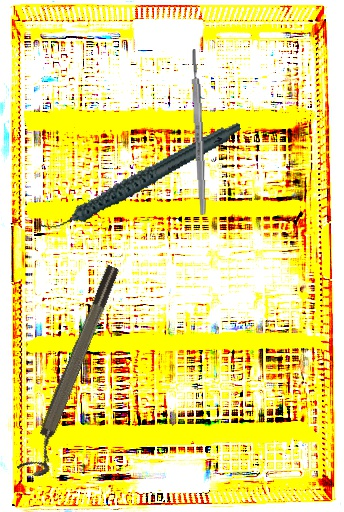Fixation Ring: (16, 262, 133, 481)
Handpiece: (27, 121, 254, 235)
Scalpel Handle: (189, 48, 208, 216)
